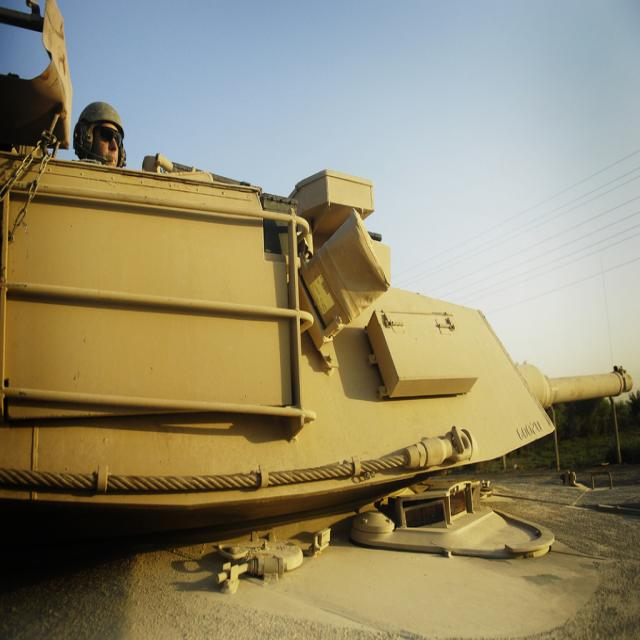tank: (0, 0, 633, 593)
